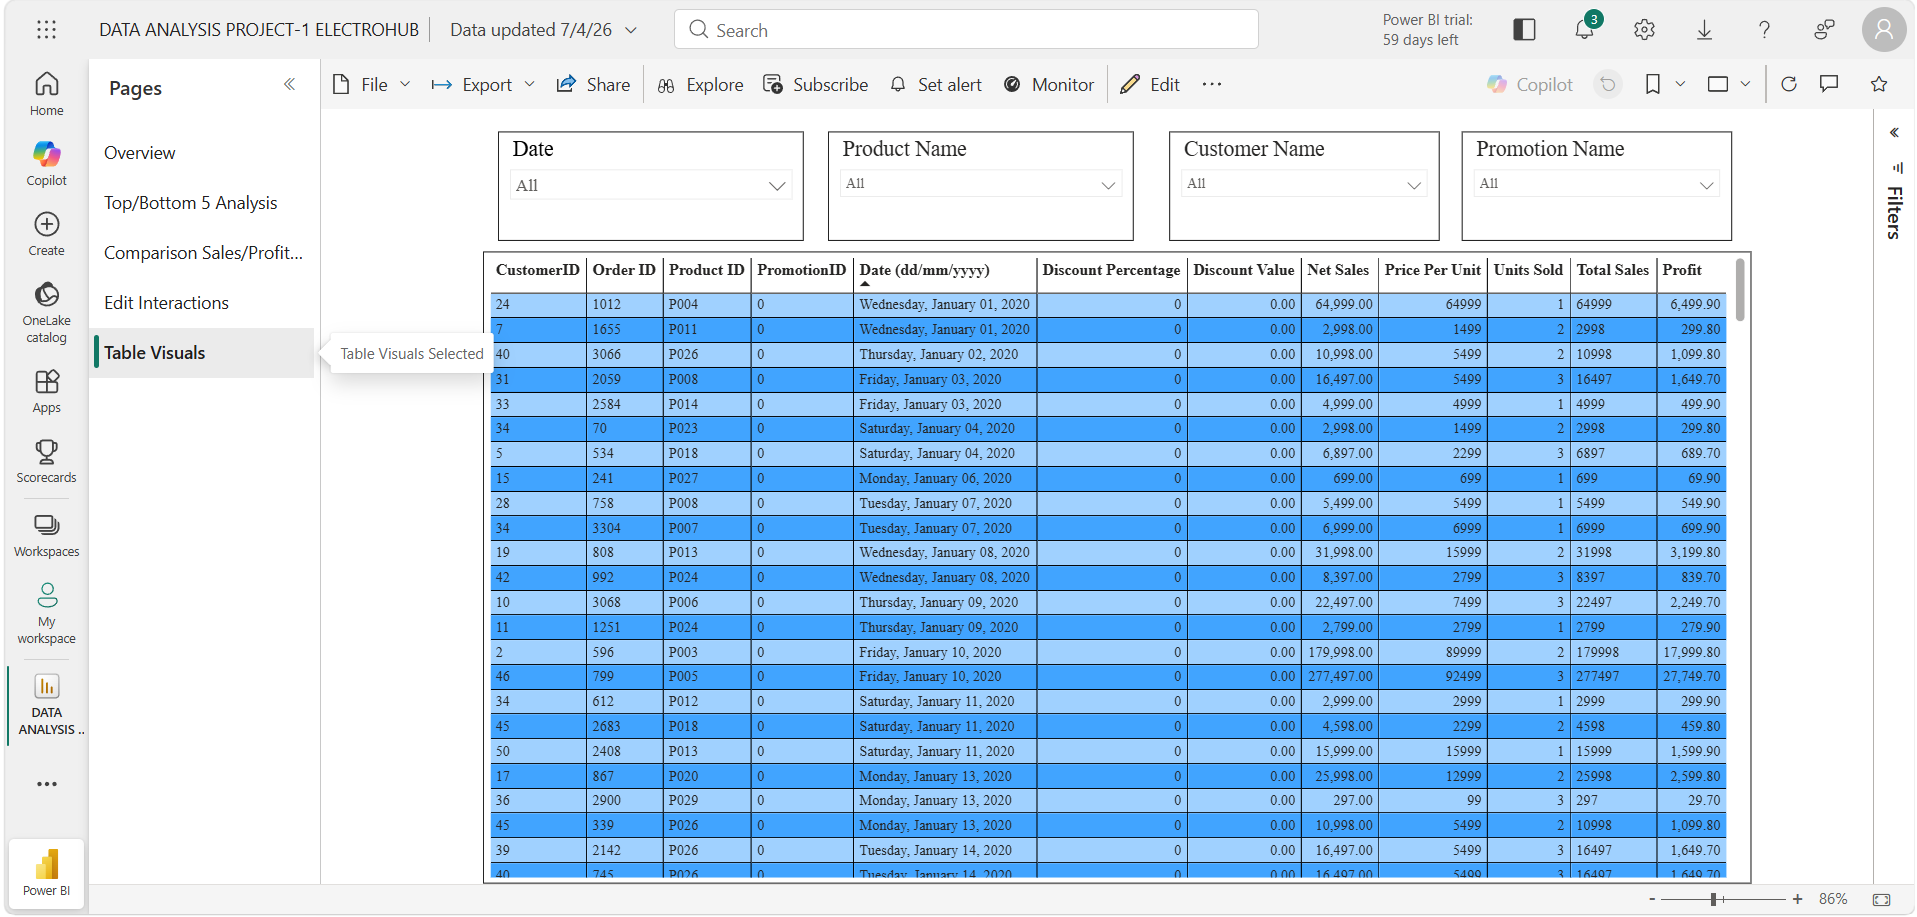

Layout of this report page (visuals, bound fields, positions):
{"tool":"powerbi","page":{"name":"Table Visuals","canvas":[1280,720],"ordinal":4},"visuals":[{"type":"tableEx","fields":{"Values":["Fact Table.CustomerID","Fact Table.Order ID","Fact Table.Product ID","Fact Table.PromotionID","Fact Table.Date (dd/mm/yyyy)","Fact Table.Discount Percentage","Fact Table.Discount Value  ","Fact Table.Net Sales","Fact Table.Price Per Unit","Fact Table.Units Sold","Fact Table.Total Sales","Fact Table.Profit"]},"box":[83.2,132.5,1126.6,588],"z":0},{"type":"slicer","fields":{"Values":["Fact Table.Date (dd/mm/yyyy)"]},"box":[83.7,20.6,284,101.5],"z":1000},{"type":"slicer","fields":{"Values":["Dim Product.Product Name"]},"box":[389.7,20.6,284,101.5],"z":2000},{"type":"slicer","fields":{"Values":["Dim Customers.Customer Name"]},"box":[706.7,20.6,251.1,101.5],"z":3000},{"type":"slicer","fields":{"Values":["Dim Promotion.Promotion Name"]},"box":[978.4,20.6,251.1,101.5],"z":4000}]}

Visuals, with their boxes on the page's 1280x720 design canvas (x1, y1, x2, y2). These are canvas units, not pixel positions in the 1917x917 screenshot, which may show the page scaled, cropped or inside an application window:
tableEx - Fact Table.CustomerID x Fact Table.Order ID: detection(83, 132, 1210, 720)
slicer - Fact Table.Date (dd/mm/yyyy): detection(84, 21, 368, 122)
slicer - Dim Product.Product Name: detection(390, 21, 674, 122)
slicer - Dim Customers.Customer Name: detection(707, 21, 958, 122)
slicer - Dim Promotion.Promotion Name: detection(978, 21, 1230, 122)
